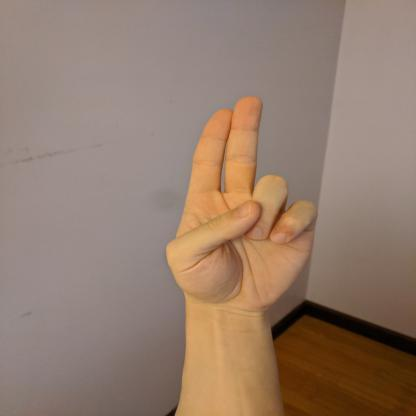U: (162, 93, 320, 313)
